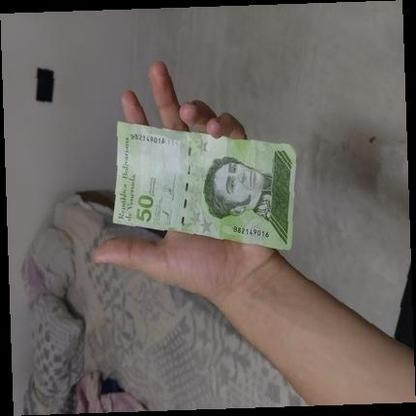fifty-front-vef: (110, 120, 298, 250)
